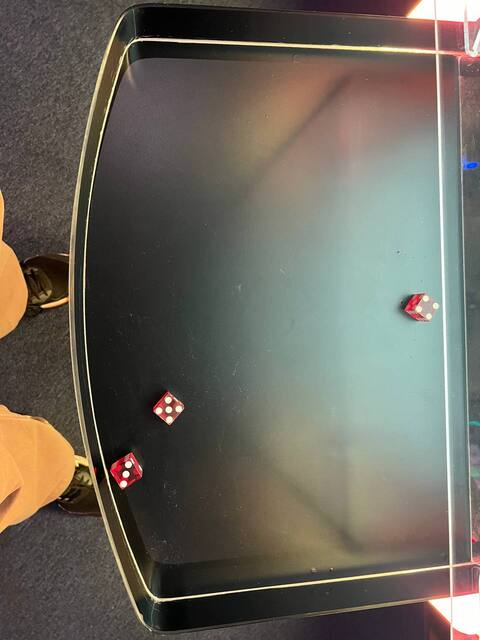five: (150, 395, 187, 427)
four: (410, 292, 442, 323)
three: (109, 458, 141, 491)
